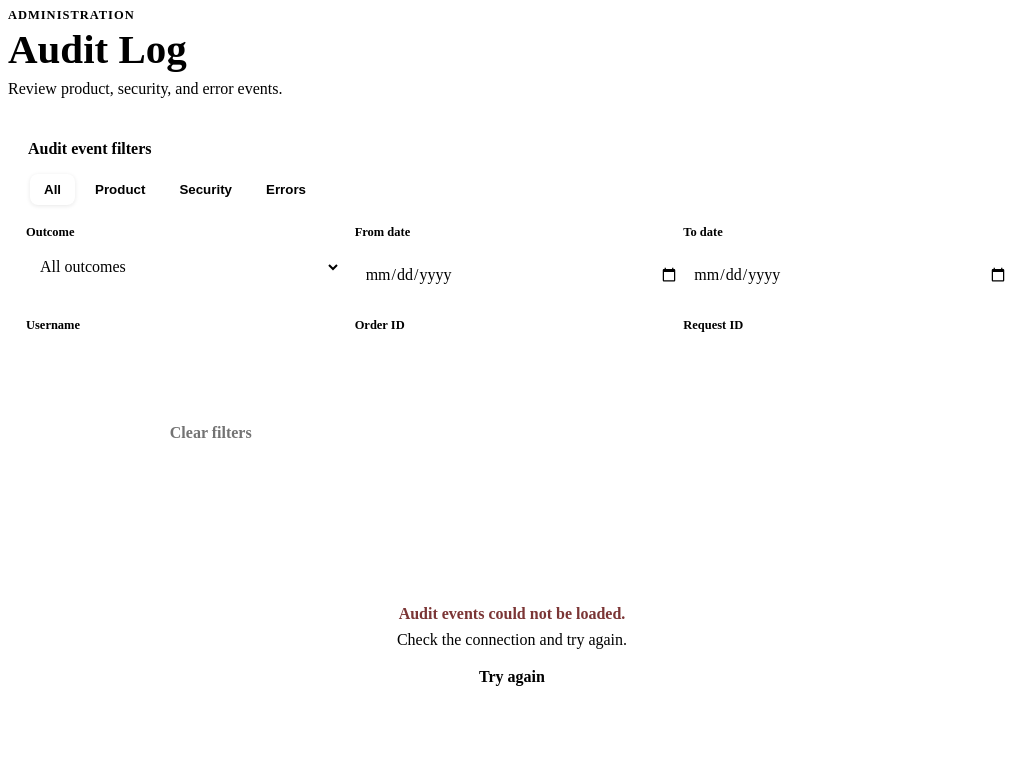
AuditLogPage › shows a controlled error and retries successfully
The width and height of the screenshot is (1024, 768).
Expected: the text "Audit events could not be loaded." is shown, [399,605,625,623]
Click the button "Try again" at (512, 677), box [463,657,561,697]
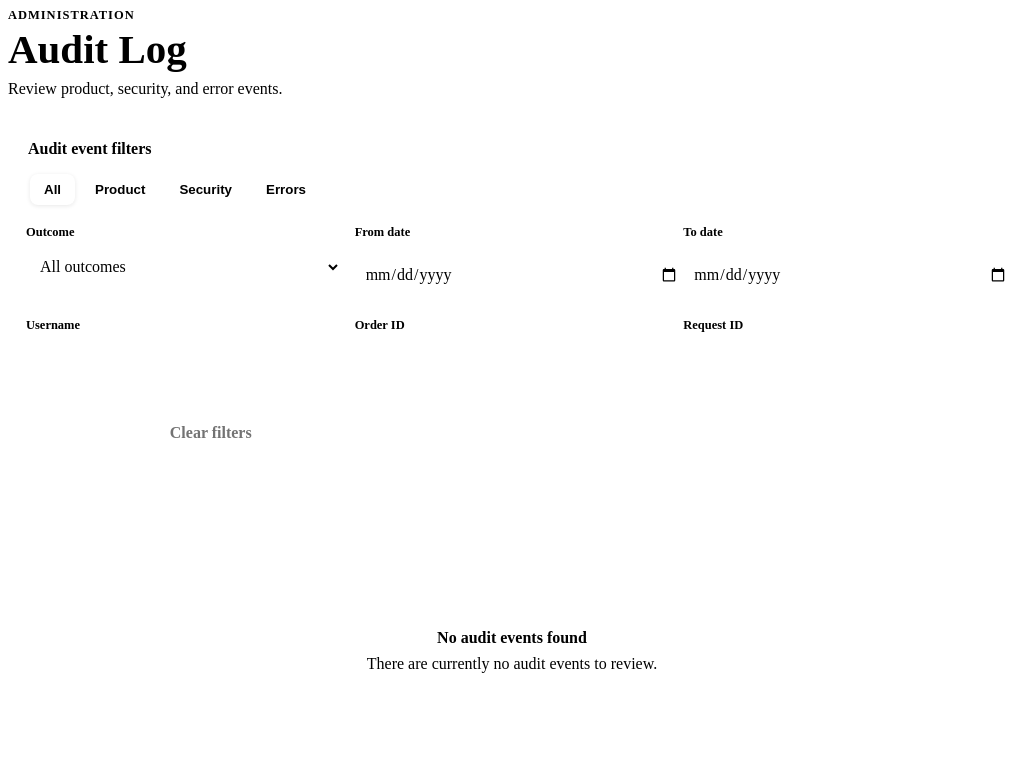
Expected: the text "No audit events found" is shown, [437,629,587,647]
Expected: the text "Audit events could not be loaded." is gone
